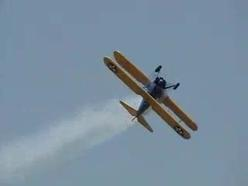aircraft: (102, 49, 200, 141)
